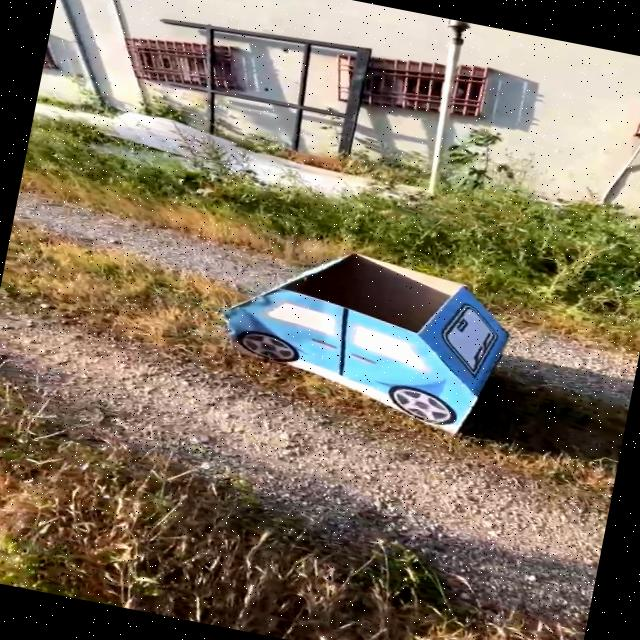blue_car: (153, 203, 582, 467)
